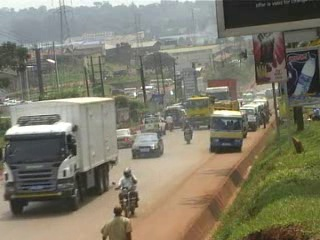Car: (130, 131, 166, 160), (161, 106, 186, 128), (116, 125, 135, 146)
Motorcycle: (110, 172, 141, 218), (180, 121, 195, 144), (163, 115, 173, 133)
